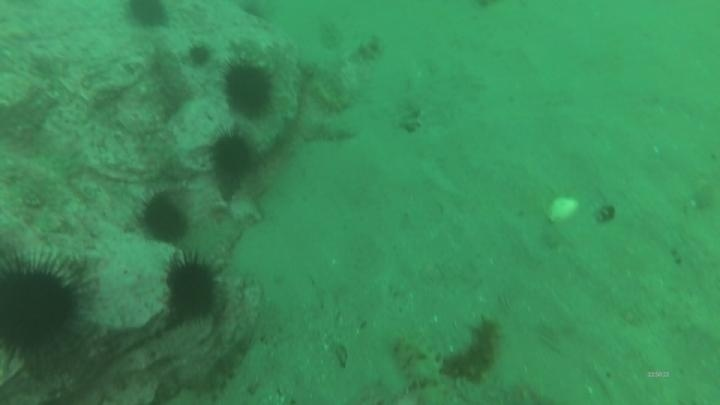echinus: (1, 250, 84, 364), (161, 251, 225, 322), (220, 57, 278, 121), (137, 190, 192, 247), (207, 128, 258, 183), (121, 1, 173, 32), (184, 41, 215, 70)
holothurian: (438, 313, 505, 385), (298, 58, 356, 117), (390, 332, 446, 392), (300, 117, 359, 147)
